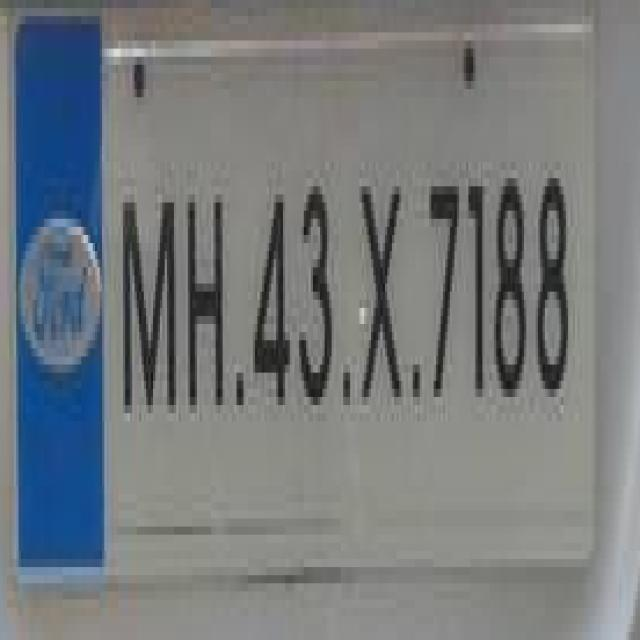license_plate: (0, 24, 608, 559)
